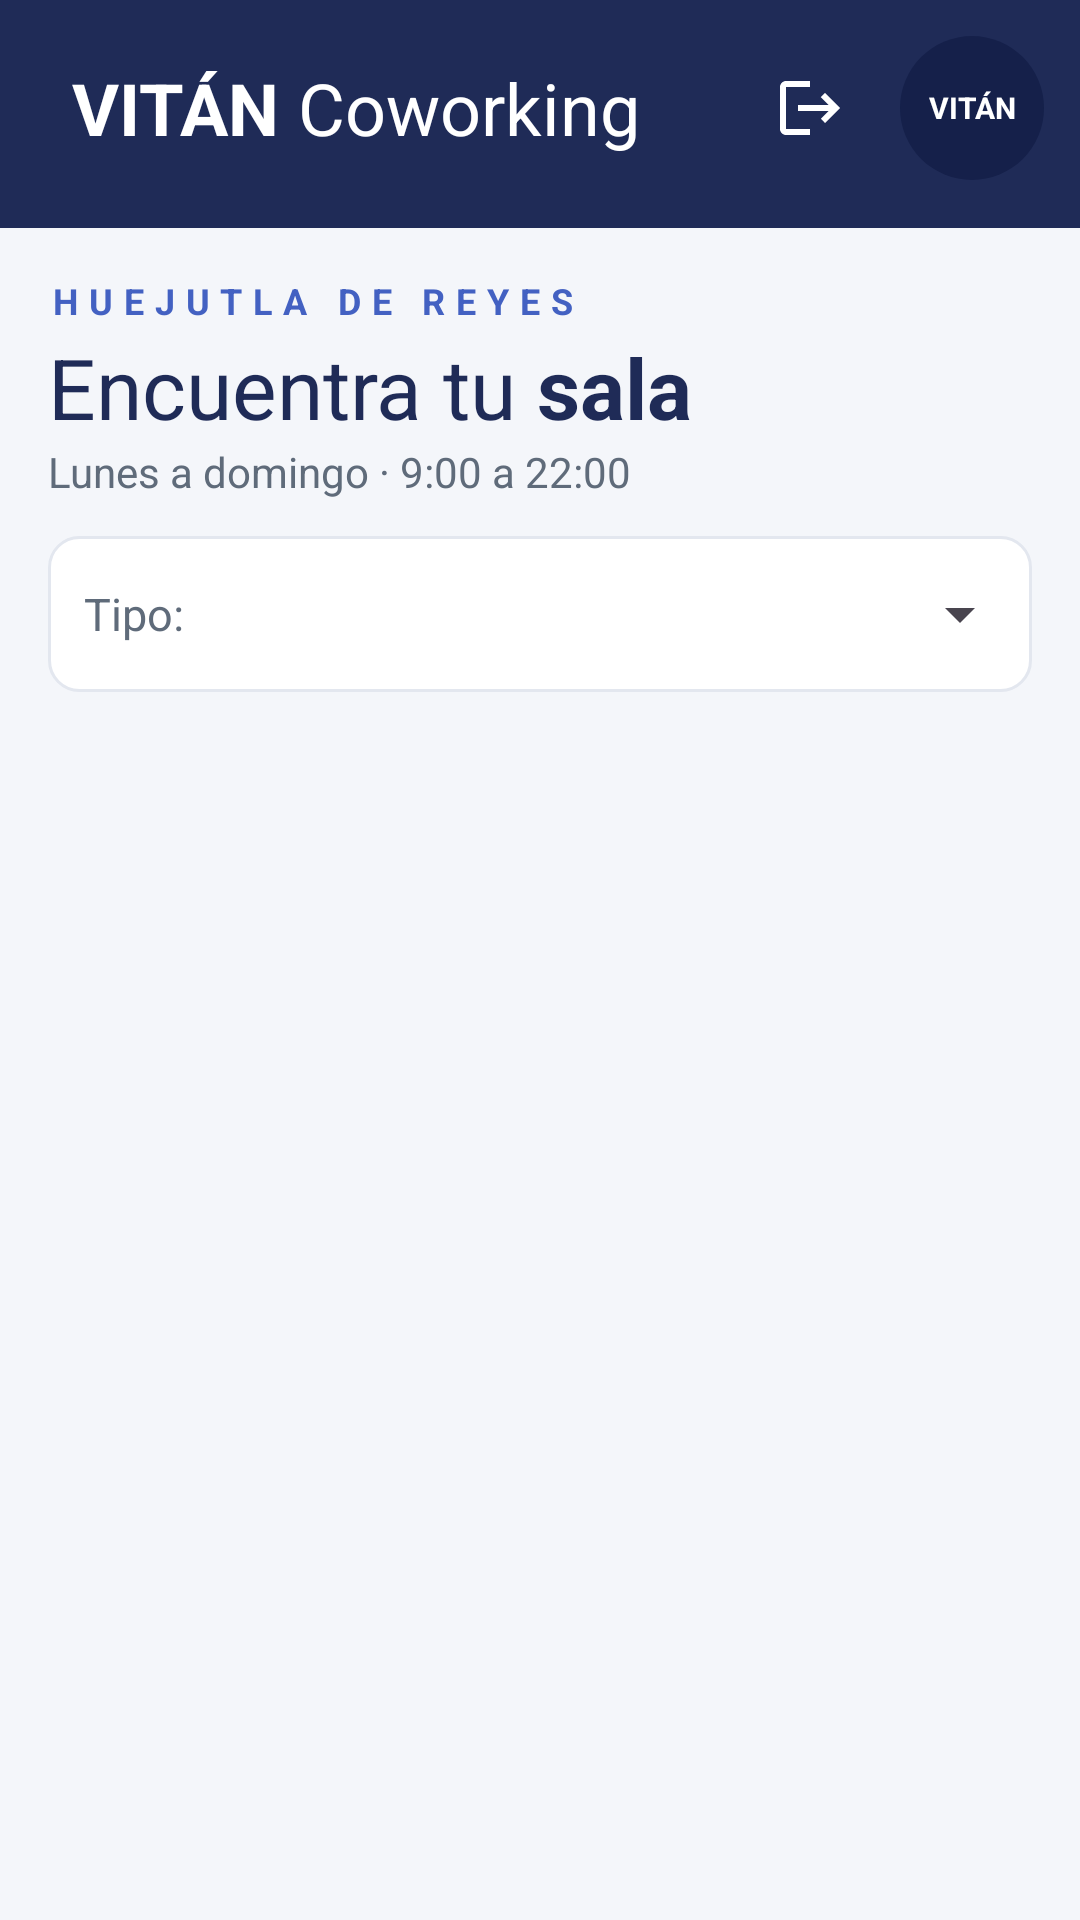

Named icons in this screenshot (1080w x 1920h) and their centers, point (x, y):
Cerrar sesión: point (810, 108)
